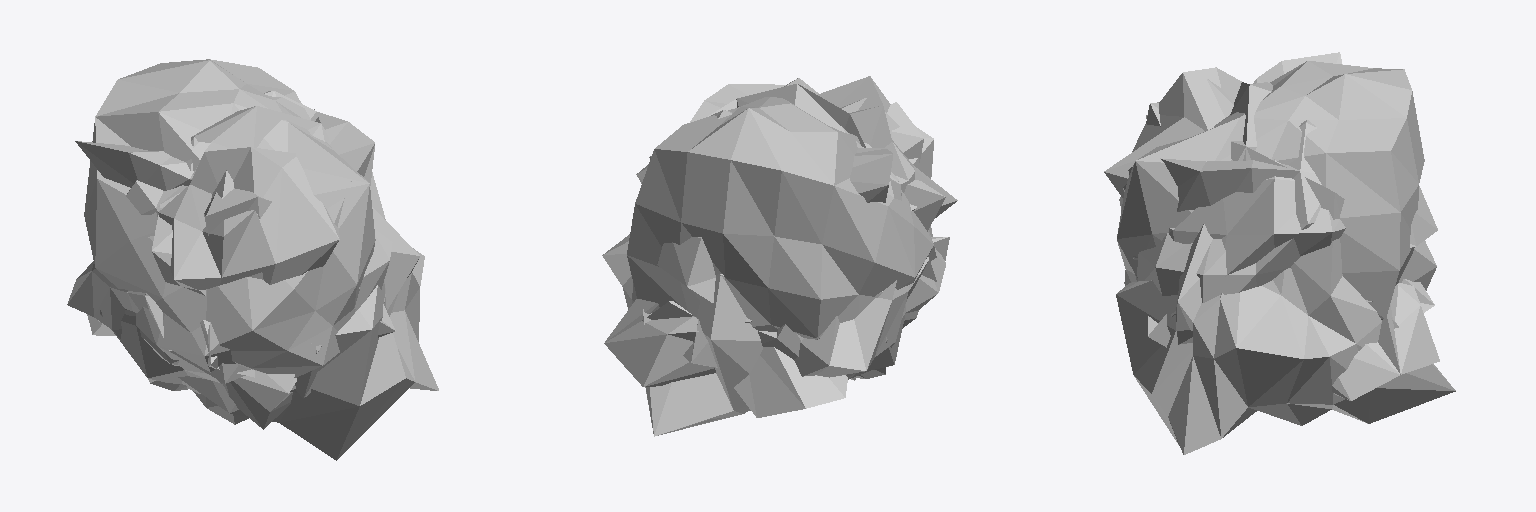
The model's file is asteroids.obj.
3 views of the same model, side by side, from view 1: azimuth 30°, elevation 25°; view 2: azimuth 150°, elevation 25°; view 3: azimuth 270°, elevation 25° (orthographic).
Parts seen in each view (by area): view 1: rock.028, rock, rock.025, rock.021, rock.023, rock.024; view 2: rock, rock.028, rock.022, rock.027, rock.025, rock.024, rock.023, rock.021; view 3: rock.028, rock, rock.025, rock.024, rock.022, rock.021, rock.023.
Part boxes in pixels (x1,y1,x2,y2): rock.028: (67,106,438,460); rock: (84,59,375,377); rock.025: (100,91,397,383); rock.021: (148,304,395,429); rock.023: (75,141,193,190); rock.024: (148,172,385,398); rock: (627,78,936,339); rock.028: (602,76,957,436); rock.022: (604,299,817,386); rock.027: (734,347,847,417); rock.025: (649,84,945,372); rock.024: (636,102,923,322); rock.023: (850,143,892,202); rock.021: (683,319,885,425); rock.028: (1104,67,1455,454); rock: (1117,61,1424,319); rock.025: (1123,79,1321,344); rock.024: (1124,102,1437,316); rock.022: (1332,283,1439,400); rock.021: (1148,279,1434,347); rock.023: (1253,52,1342,83).
Size of the model in its own units: 4.48 by 4.87 by 4.44.